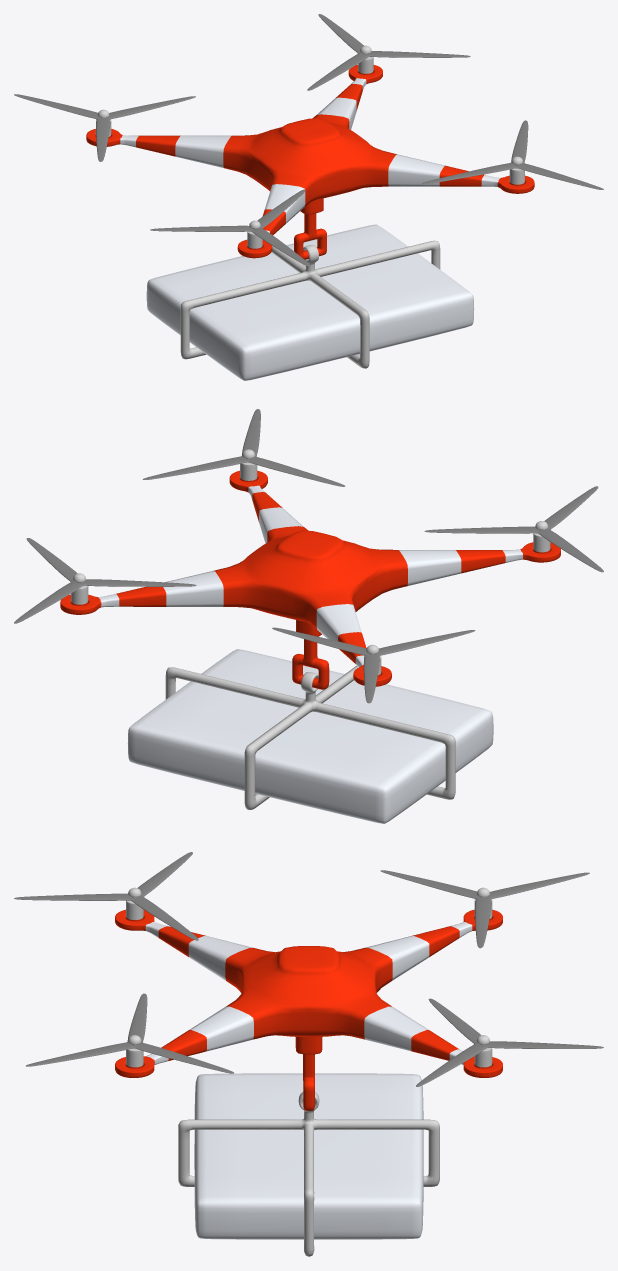
The model's file is Courierdrone.fbx.
The picture shows the model from 3 angles, top to bottom: view 1: azimuth 30°, elevation 25°; view 2: azimuth 150°, elevation 25°; view 3: azimuth 270°, elevation 25°; orthographic projection. The views are drawn at different scales.
Parts seen in each view (by area): view 1: Plane, Drone, Torus.001, Propeller4, Propeller1, Propeller2, Propeller3; view 2: Plane, Drone, Torus.001, Propeller4, Propeller3, Propeller1, Propeller2; view 3: Plane, Drone, Torus.001, Propeller4, Propeller1, Propeller3, Propeller2.
Part boxes in pixels (x1=…): Plane: x1=146, y1=224, x2=474, y2=380; Drone: x1=86, y1=45, x2=534, y2=259; Torus.001: x1=180, y1=240, x2=440, y2=368; Propeller4: x1=14, y1=94, x2=195, y2=161; Propeller1: x1=422, y1=120, x2=603, y2=189; Propeller2: x1=307, y1=14, x2=470, y2=90; Propeller3: x1=150, y1=189, x2=310, y2=266; Plane: x1=127, y1=649, x2=493, y2=823; Drone: x1=60, y1=449, x2=560, y2=689; Torus.001: x1=165, y1=665, x2=455, y2=809; Propeller4: x1=272, y1=627, x2=475, y2=703; Propeller3: x1=424, y1=486, x2=603, y2=572; Propeller1: x1=143, y1=409, x2=345, y2=486; Propeller2: x1=14, y1=538, x2=196, y2=623; Plane: x1=194, y1=1073, x2=423, y2=1239; Drone: x1=115, y1=887, x2=502, y2=1110; Torus.001: x1=178, y1=1092, x2=439, y2=1256; Propeller4: x1=380, y1=870, x2=589, y2=948; Propeller1: x1=26, y1=993, x2=233, y2=1073; Propeller3: x1=14, y1=852, x2=198, y2=940; Propeller2: x1=416, y1=998, x2=603, y2=1086.
Bounding box in the file's own units: 837 × 382 × 888.
